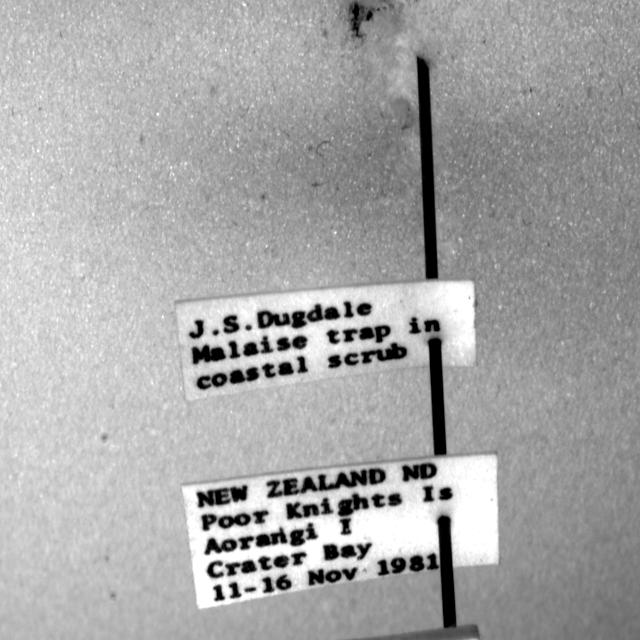typed_label: (182, 454, 499, 608), (175, 279, 476, 401)
